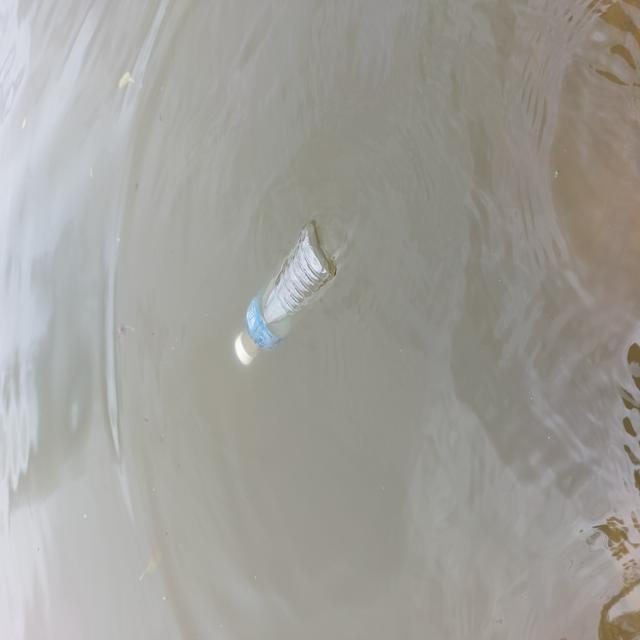waterbottle: (217, 219, 361, 390)
